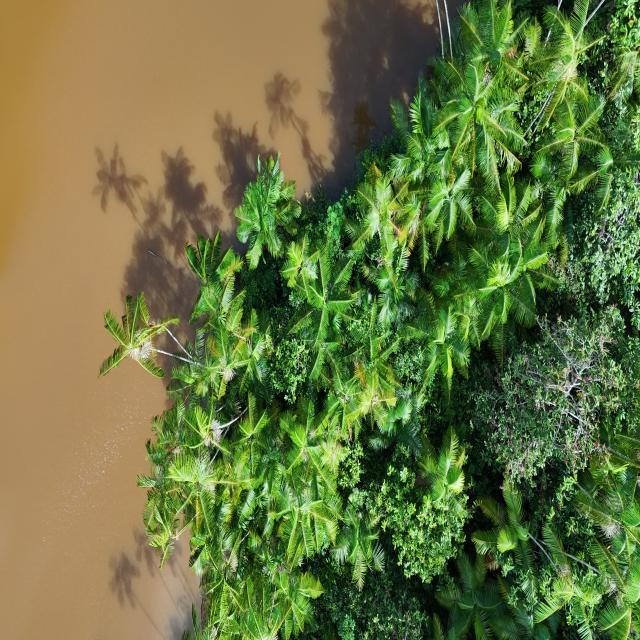vegetation: (97, 1, 638, 638)
